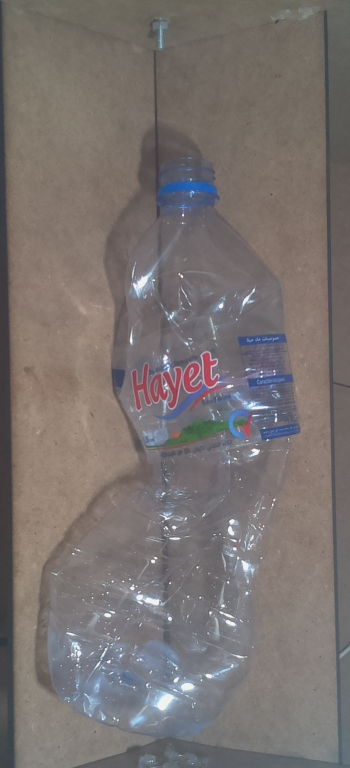Bouteille_1.5L: (34, 146, 309, 751)
